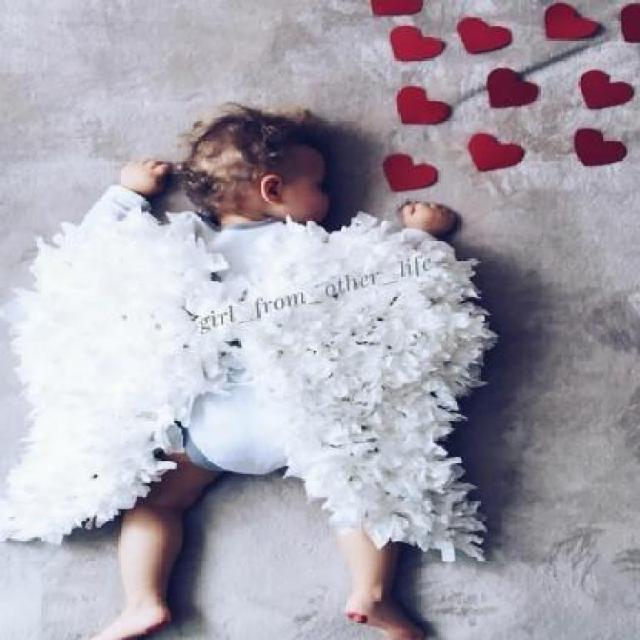baby: (4, 114, 493, 638)
